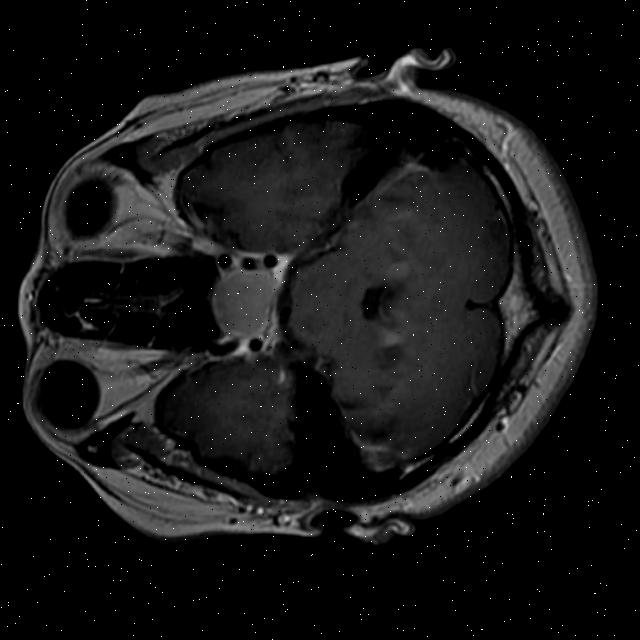Pituitary: (202, 264, 281, 341)
